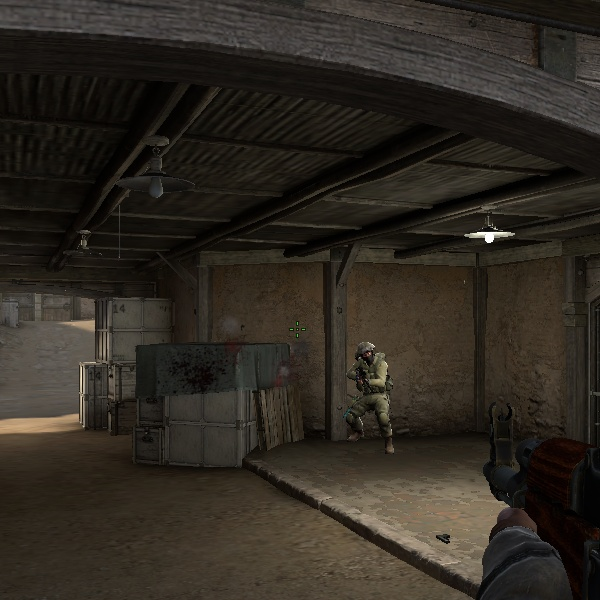ct_body: (347, 343, 397, 455)
ct_head: (356, 343, 375, 364)
